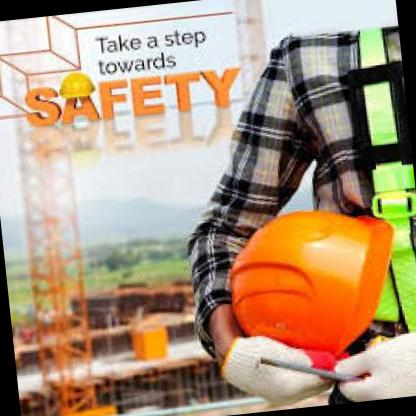Gloves: (215, 324, 340, 412), (330, 327, 416, 402)
